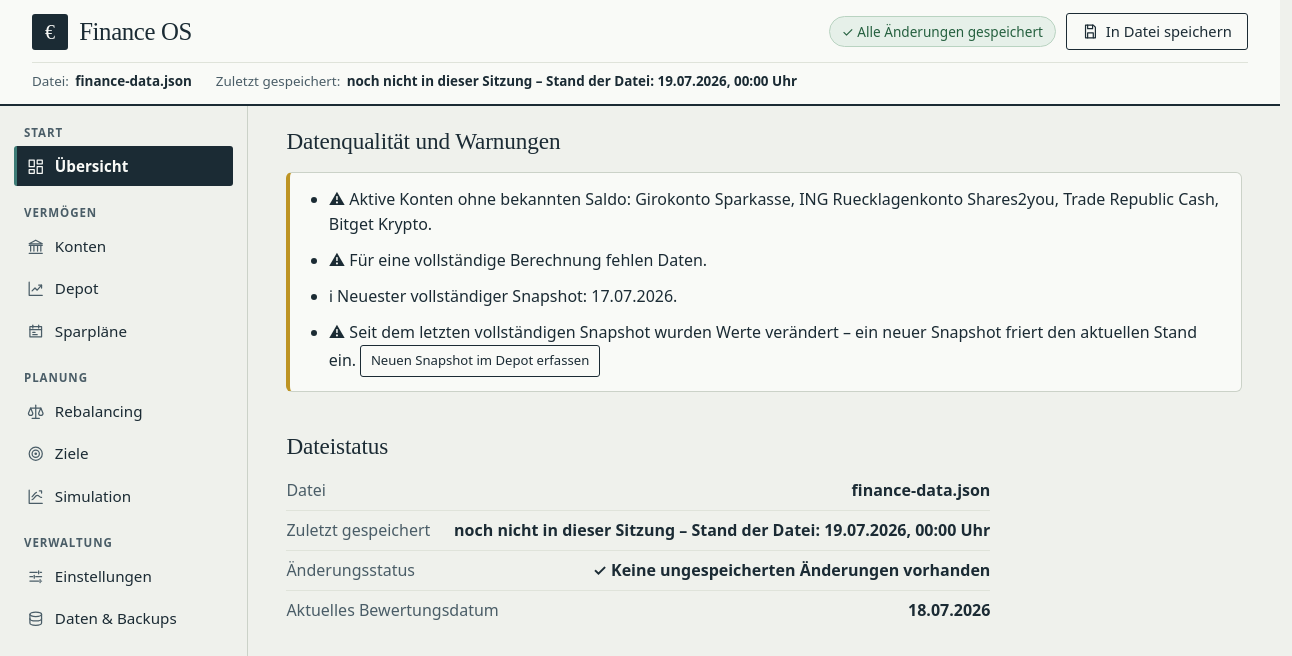
Scenario: DashboardPage – Datenqualität und Warnungen › nach Werterfassung mit späterem Datum: Veränderungs-Hinweis mit Navigations-Button zur Depot-Seite
(page scrolled)
Expected: the text "18.07.2026" is shown, [908, 598, 990, 623]
Expected: the list item "Seit dem letzten vollständigen Snapshot wurden Werte verändert – ein neuer Snapshot friert den aktuellen Stand ein." is shown, [329, 321, 1197, 370]
Click the button "Neuen Snapshot im Depot erfassen". click: (480, 361)
box: [360, 345, 600, 377]
(page scrolled)
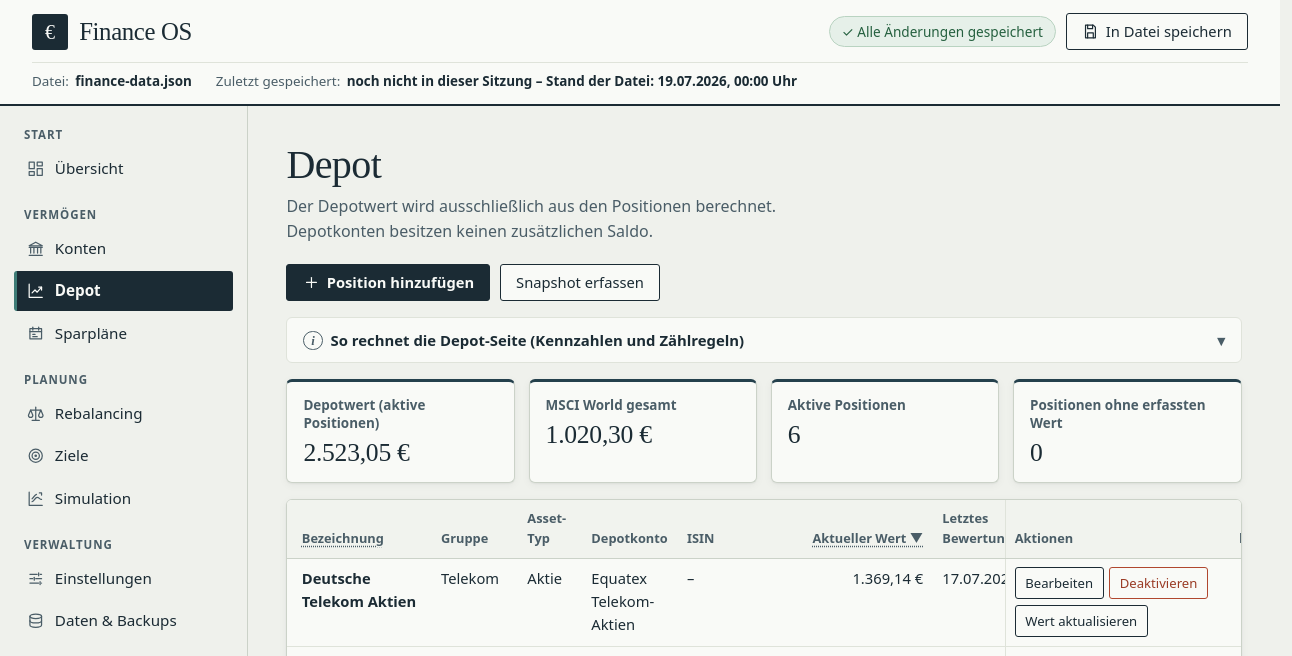
Expected: the heading "Depot" is shown, [286, 142, 381, 187]
